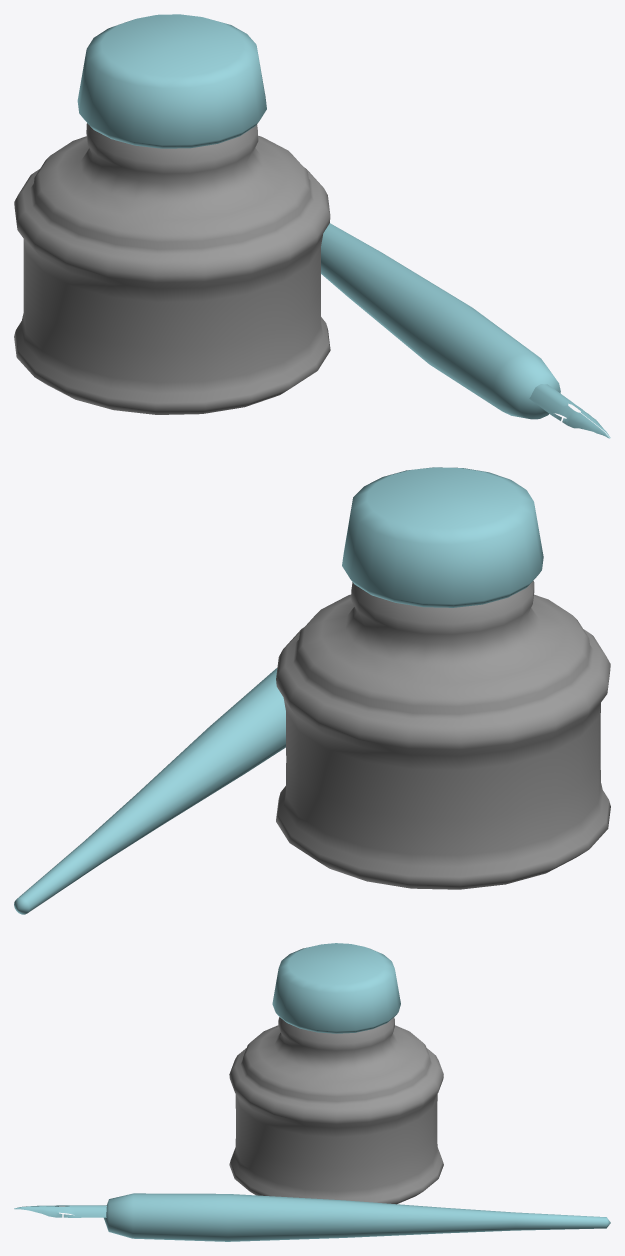
The model's file is Pen-holder_low02.fbx.
The picture shows the model from 3 angles, top to bottom: view 1: azimuth 30°, elevation 25°; view 2: azimuth 150°, elevation 25°; view 3: azimuth 270°, elevation 25°; orthographic projection. The views are drawn at different scales.
Visible parts, largest first — view 1: BottleInk, Pen_holder_low; view 2: BottleInk, Pen_holder_low; view 3: BottleInk, Pen_holder_low.
Part boxes in pixels (<box>): BottleInk: <box>14,123,330,414</box>; Pen_holder_low: <box>77,14,610,438</box>; BottleInk: <box>276,581,610,889</box>; Pen_holder_low: <box>14,467,543,914</box>; BottleInk: <box>229,1017,443,1204</box>; Pen_holder_low: <box>14,943,610,1241</box>.
Bounding box in the file's own units: 3.22 × 2.62 × 6.71.
